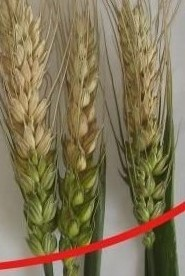Wheat scab: (1, 5, 55, 261), (115, 13, 170, 225), (58, 16, 104, 246)
